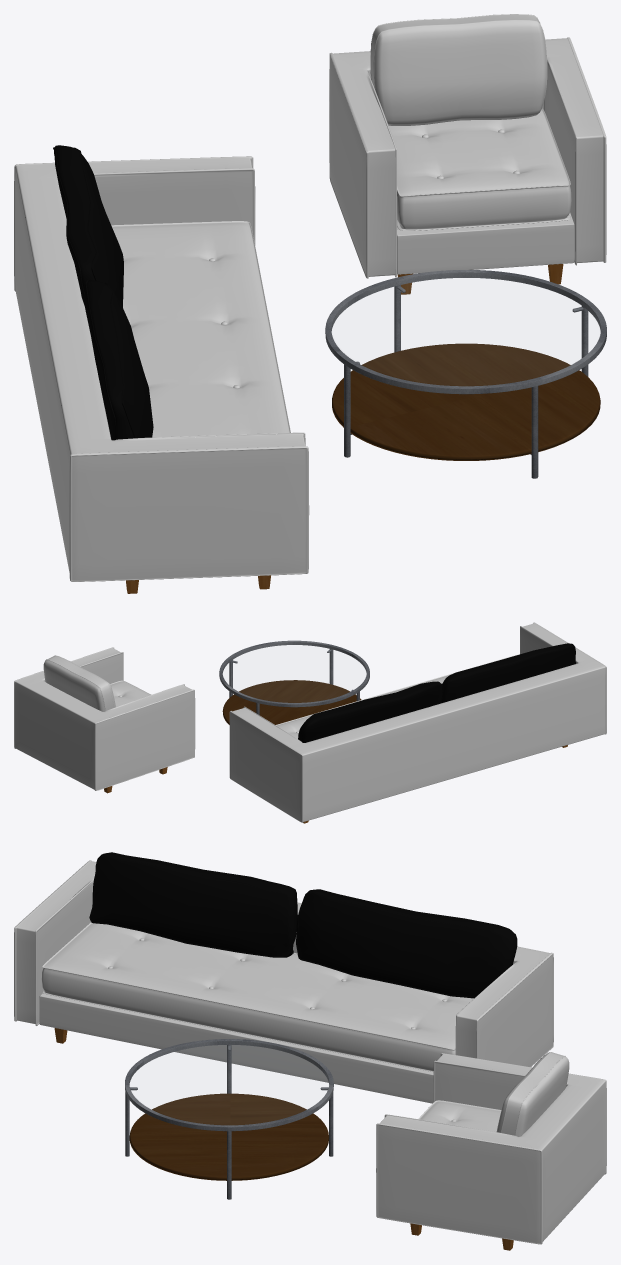
3 renders of one model, top to bottom at view 1: azimuth 30°, elevation 25°; view 2: azimuth 150°, elevation 25°; view 3: azimuth 270°, elevation 25°, orthographic. The views are drawn at different scales.
Parts seen in each view (by area): view 1: pCube2 (×2), pCube3 (×2), coffeetable, pCube28, pCube1, pCube20, pCube22; view 2: pCube2 (×2), coffeetable, pCube22, pCube20, pCube28, pCube3 (×2); view 3: pCube2 (×2), pCube3 (×2), coffeetable, pCube22, pCube20, pCube1, pCube28.
Boxes of the visible parts, left/top/right/bottom form: pCube2 (×2): left=14, top=37, right=606, bottom=581; pCube3 (×2): left=111, top=108, right=571, bottom=437; coffeetable: left=325, top=270, right=606, bottom=478; pCube28: left=370, top=14, right=547, bottom=125; pCube1: left=397, top=212, right=574, bottom=274; pCube20: left=84, top=280, right=153, bottom=440; pCube22: left=53, top=145, right=123, bottom=307; pCube2 (×2): left=14, top=622, right=606, bottom=822; coffeetable: left=219, top=640, right=369, bottom=724; pCube22: left=298, top=681, right=443, bottom=742; pCube20: left=442, top=643, right=575, bottom=702; pCube28: left=43, top=655, right=115, bottom=711; pCube3 (×2): left=110, top=654, right=518, bottom=738; pCube2 (×2): left=14, top=860, right=606, bottom=1244; pCube3 (×2): left=41, top=922, right=501, bottom=1131; coffeetable: left=125, top=1039, right=333, bottom=1199; pCube22: left=296, top=889, right=517, bottom=998; pCube20: left=89, top=852, right=297, bottom=957; pCube1: left=39, top=993, right=433, bottom=1103; pCube28: left=496, top=1052, right=569, bottom=1136.
Size of the model in its own units: 6.3 by 1.56 by 5.43.
